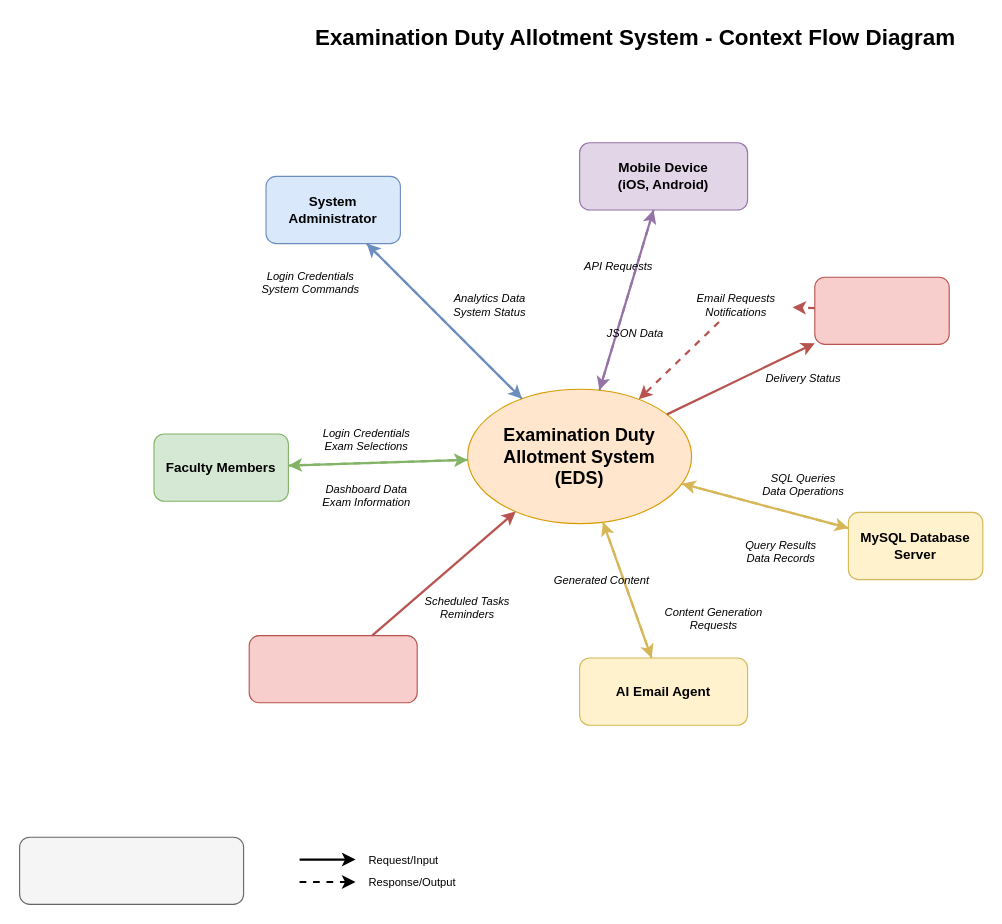
This 1002x924 diagram has some shape labels left out. Here are the shapes that lost their labels. From the top down, the centre of each, then its label:
At (x=881, y=310): "Email System (SMTP Server)".
At (x=332, y=668): "System Scheduler (Cron Jobs)".
At (x=131, y=870): "Legend".
